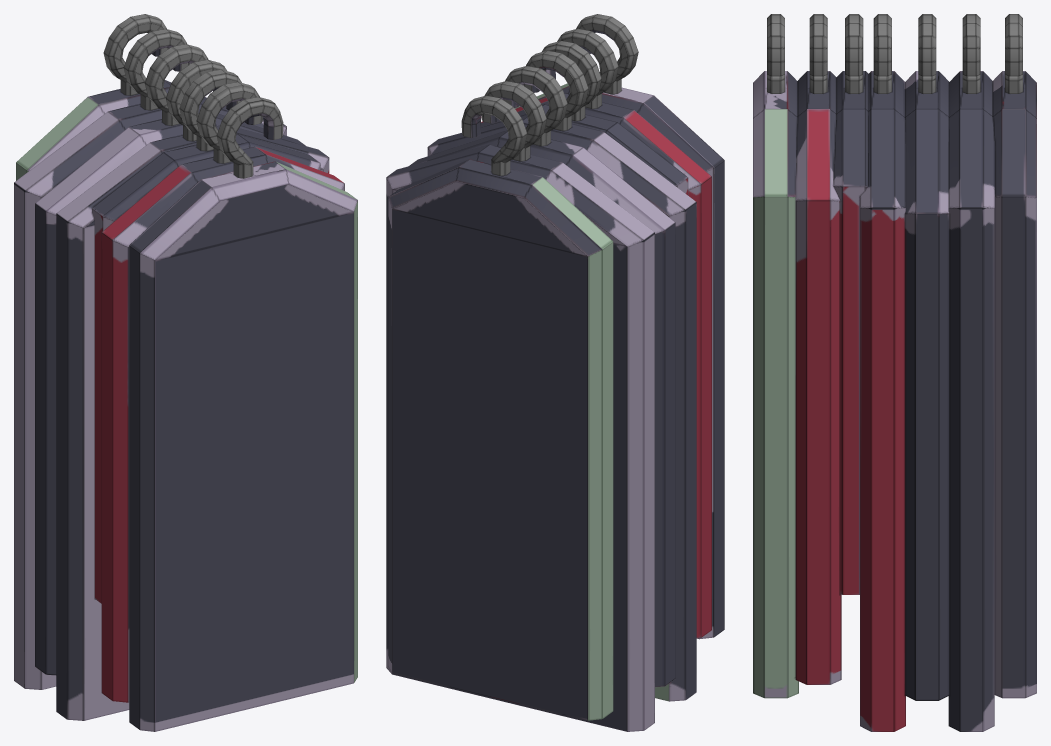
File: clothes.fbx
The picture shows the model from 3 angles, left to right: view 1: azimuth 30°, elevation 25°; view 2: azimuth 150°, elevation 25°; view 3: azimuth 270°, elevation 25°; orthographic projection. The views are drawn at different scales.
Visible parts, largest first — view 1: pCube10; view 2: pCube10; view 3: pCube10.
Boxes of the visible parts, bbox=[...] form: pCube10: bbox=[14, 14, 357, 731]; pCube10: bbox=[386, 14, 724, 731]; pCube10: bbox=[753, 14, 1036, 731].
Size of the model in its own units: 8.46 by 19.08 by 7.54.
